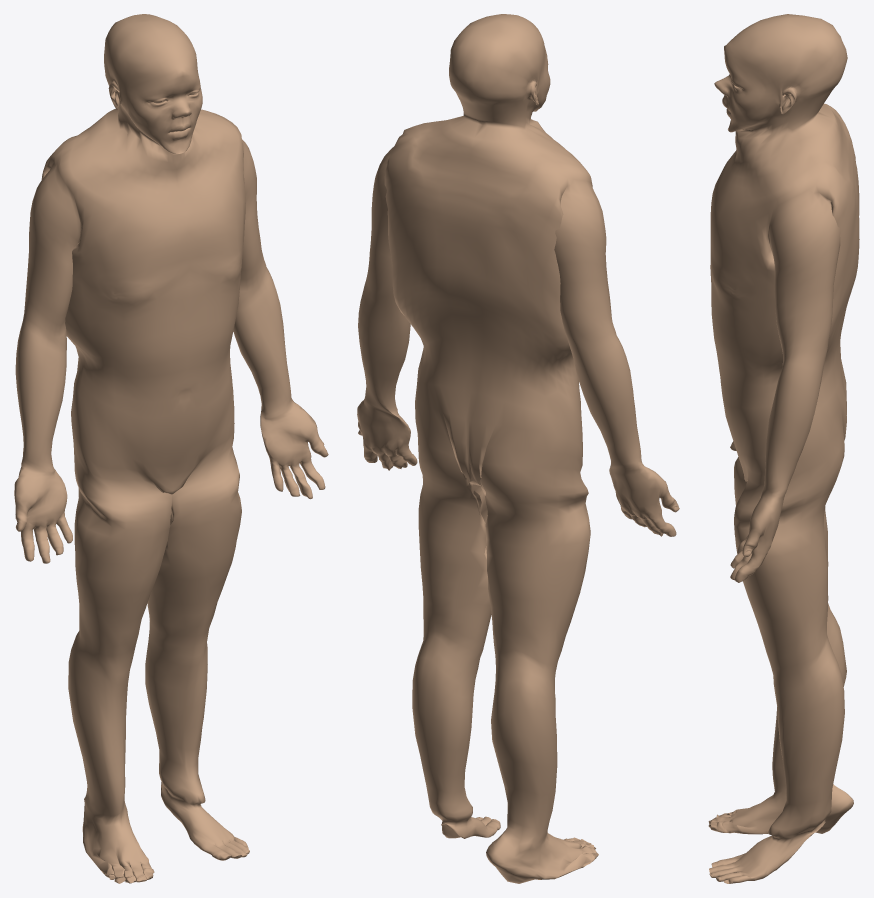
Rendered from skin-candidate-r54.glb.
3 views of the same model, side by side, from view 1: azimuth 30°, elevation 25°; view 2: azimuth 150°, elevation 25°; view 3: azimuth 270°, elevation 25° (orthographic). The views are drawn at different scales.
Parts seen in each view (by area): view 1: MakeHuman_AT10_skin_fit_candidate_r54; view 2: MakeHuman_AT10_skin_fit_candidate_r54; view 3: MakeHuman_AT10_skin_fit_candidate_r54.
Part boxes in pixels (left/top/right/bottom): MakeHuman_AT10_skin_fit_candidate_r54: left=14, top=14, right=328, bottom=883; MakeHuman_AT10_skin_fit_candidate_r54: left=357, top=14, right=679, bottom=883; MakeHuman_AT10_skin_fit_candidate_r54: left=708, top=14, right=859, bottom=883.
Size of the model in its own units: 0.6758 by 1.71 by 0.281.
